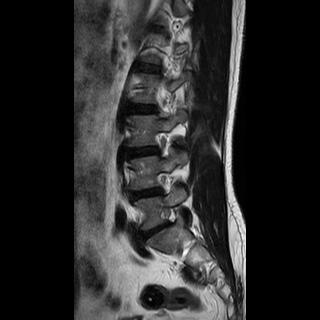LFS0: (154, 201, 185, 234), (150, 169, 181, 202), (147, 128, 178, 161)
